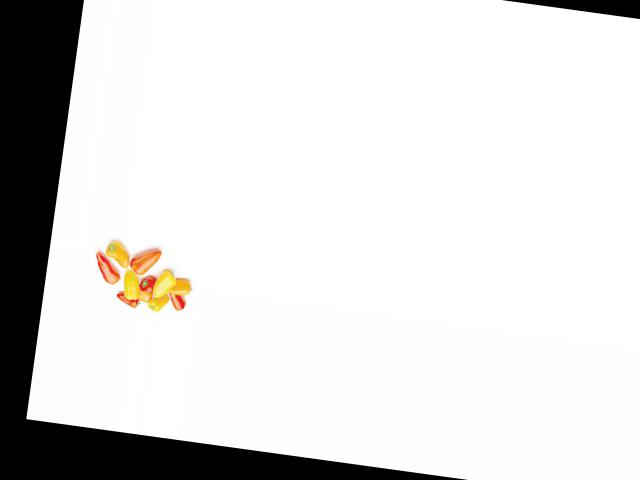bell_pepper: (112, 292, 142, 309)
